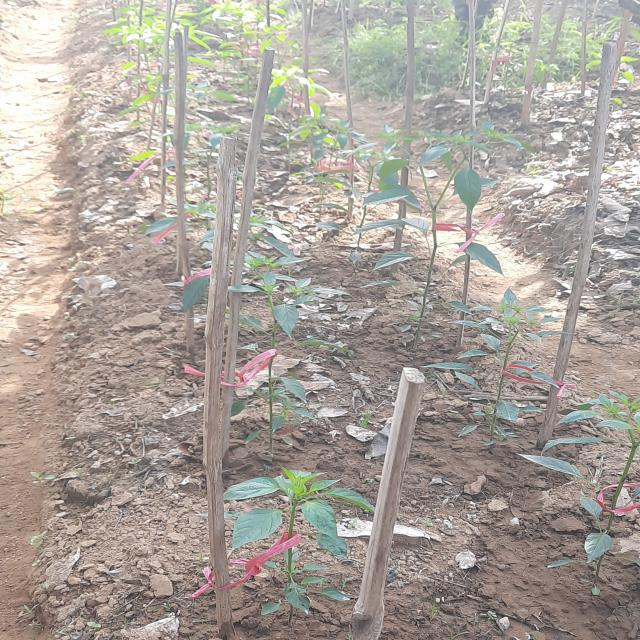sehat: (231, 504, 283, 548), (220, 477, 286, 502), (302, 502, 345, 540)
